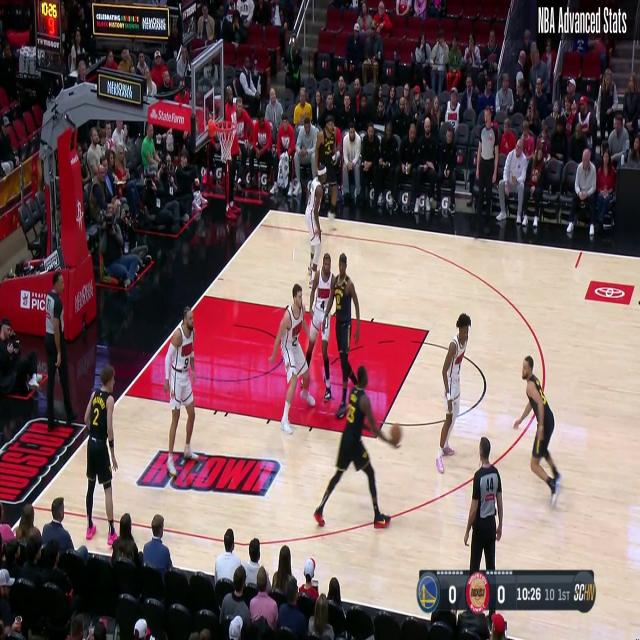ball: (387, 409, 409, 455)
judge: (33, 274, 75, 438), (464, 438, 502, 577)
player: (80, 359, 122, 550), (268, 284, 316, 438), (517, 348, 557, 504), (164, 310, 198, 476), (436, 314, 470, 474), (301, 238, 335, 396), (308, 111, 346, 241), (338, 255, 359, 424), (302, 172, 331, 292)
